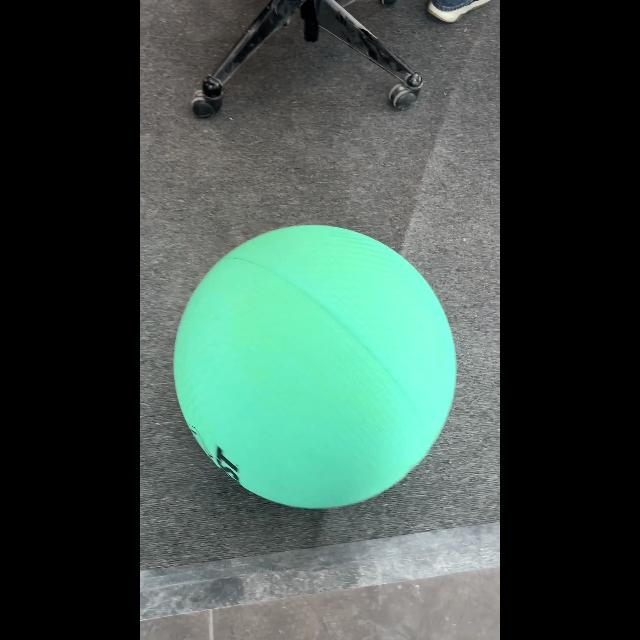ALGAE: (172, 224, 458, 511)
